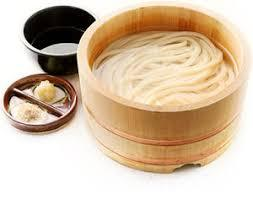kamaage: (77, 2, 249, 179)
